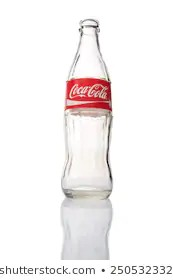coke-glass-bottle: (59, 16, 121, 200)
